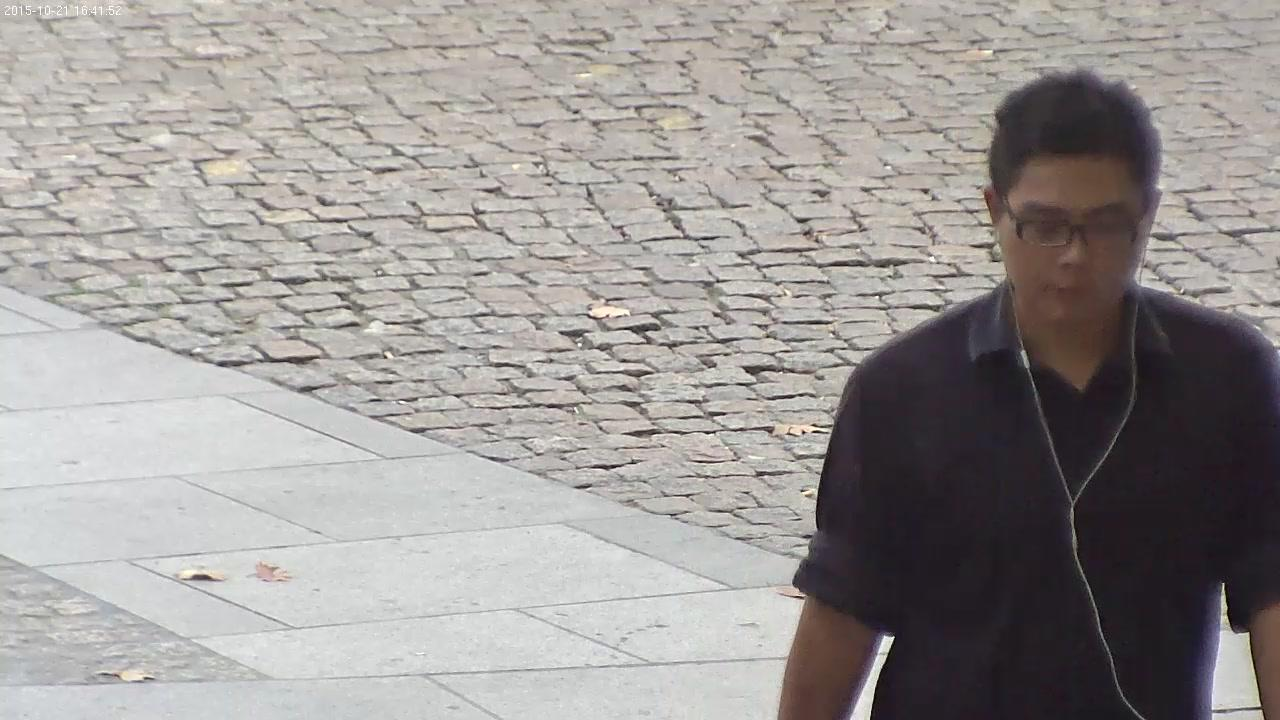face: (1004, 157, 1141, 323)
